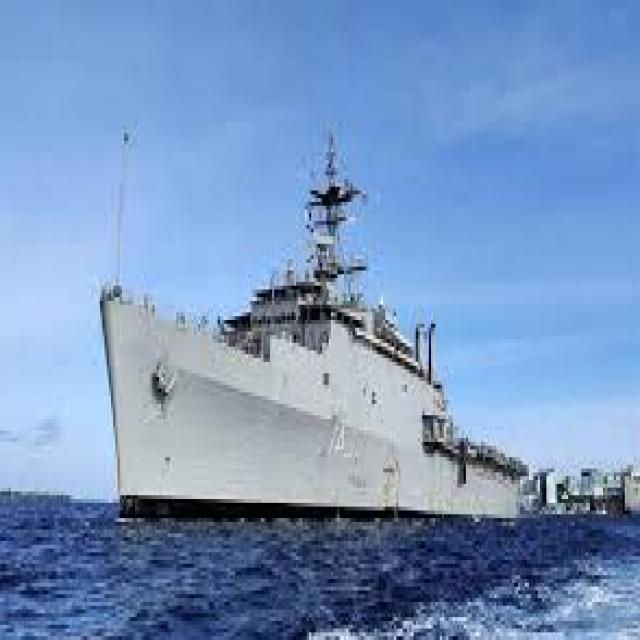navalvessels: (100, 140, 550, 544)
